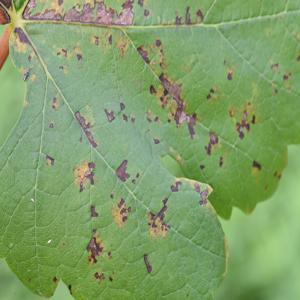Folha: (0, 0, 299, 299)
Fungo: (136, 36, 198, 140), (145, 196, 171, 241), (74, 110, 99, 148), (73, 159, 95, 192), (86, 228, 105, 266), (236, 104, 256, 140), (110, 196, 131, 228), (115, 159, 130, 182), (204, 131, 218, 155), (0, 0, 12, 25), (136, 44, 150, 64), (186, 114, 196, 140), (143, 252, 152, 274), (22, 65, 33, 81), (92, 271, 104, 284), (199, 188, 208, 205), (226, 63, 235, 80), (104, 108, 114, 123), (170, 180, 182, 191), (209, 131, 218, 145), (51, 96, 59, 110), (46, 154, 54, 166), (252, 160, 261, 170), (91, 205, 98, 217), (150, 84, 157, 94), (229, 106, 235, 117), (194, 182, 200, 192), (108, 271, 114, 281), (144, 8, 149, 16), (120, 102, 125, 110), (219, 156, 223, 166), (108, 34, 112, 44), (49, 121, 54, 128)
